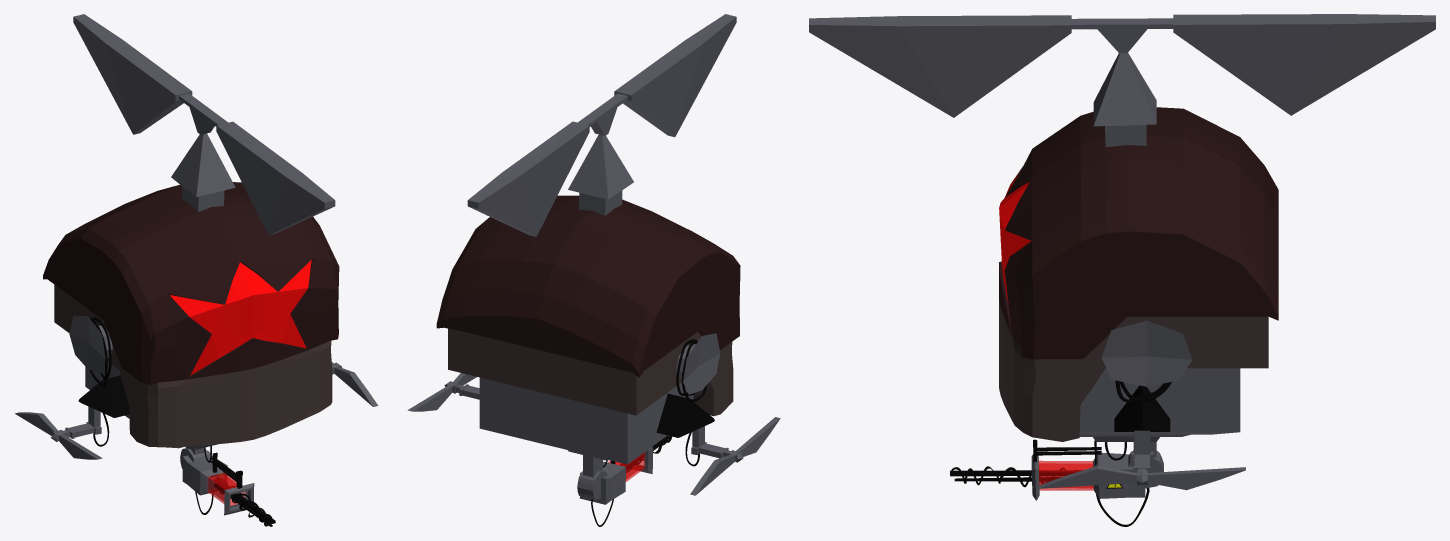
Rendered from Drone.fbx.
3 views of the same model, side by side, from view 1: azimuth 30°, elevation 25°; view 2: azimuth 150°, elevation 25°; view 3: azimuth 270°, elevation 25° (orthographic). The views are drawn at different scales.
Visible parts, largest first — view 1: Cube.001, Cube.002; view 2: Cube.001, Cube.002; view 3: Cube.001, Cube.003.
Boxes of the visible parts, x1,y1,x2,y2 form: Cube.001: [15, 14, 378, 526]; Cube.002: [89, 317, 111, 386]; Cube.001: [407, 14, 780, 504]; Cube.002: [676, 339, 706, 402]; Cube.001: [809, 14, 1435, 500]; Cube.003: [1096, 380, 1171, 526].
Size of the model in its own units: 2031 by 1361 by 1818.
